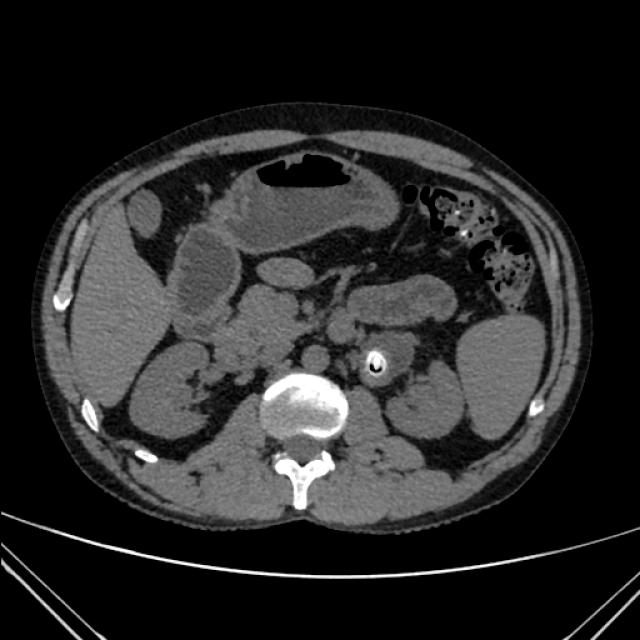kidneystone: (364, 349, 388, 377)
